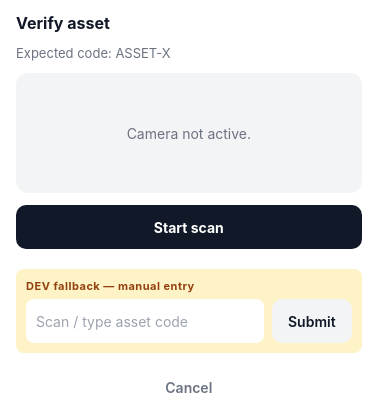
Test: ScannerCapture — manual entry → result › manual submit with matching code yields result: match and shows Done
Type "ASSET-X" into the field named "Manually enter asset code" at (145, 321), box [26,299,264,343]
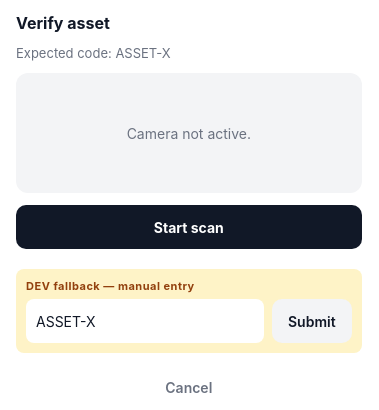
Click the button with aria-label "Submit manual scan" at (312, 321), box [272,299,352,343]
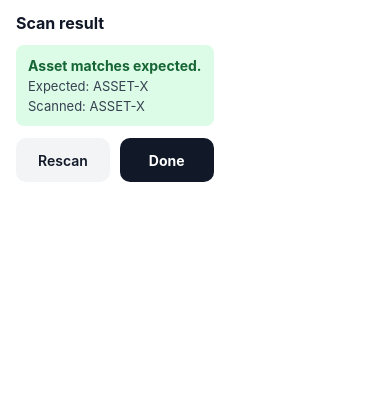
Check: the text "Asset matches expected." is shown, box [28,57,202,74]
